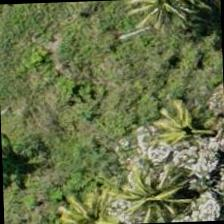Kelapa_Sawit: (149, 77, 223, 171), (101, 152, 194, 223), (45, 165, 138, 223), (145, 0, 223, 51)
